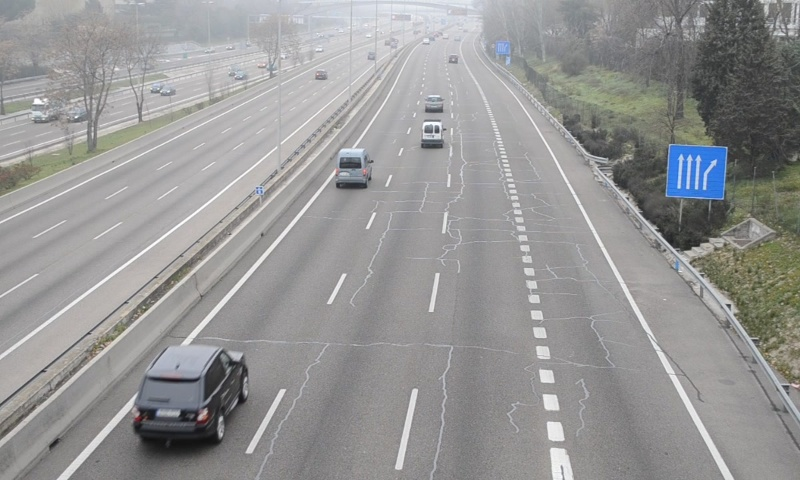car: (131, 347, 246, 437), (424, 94, 444, 112)
van: (336, 148, 372, 186), (420, 118, 446, 150)
